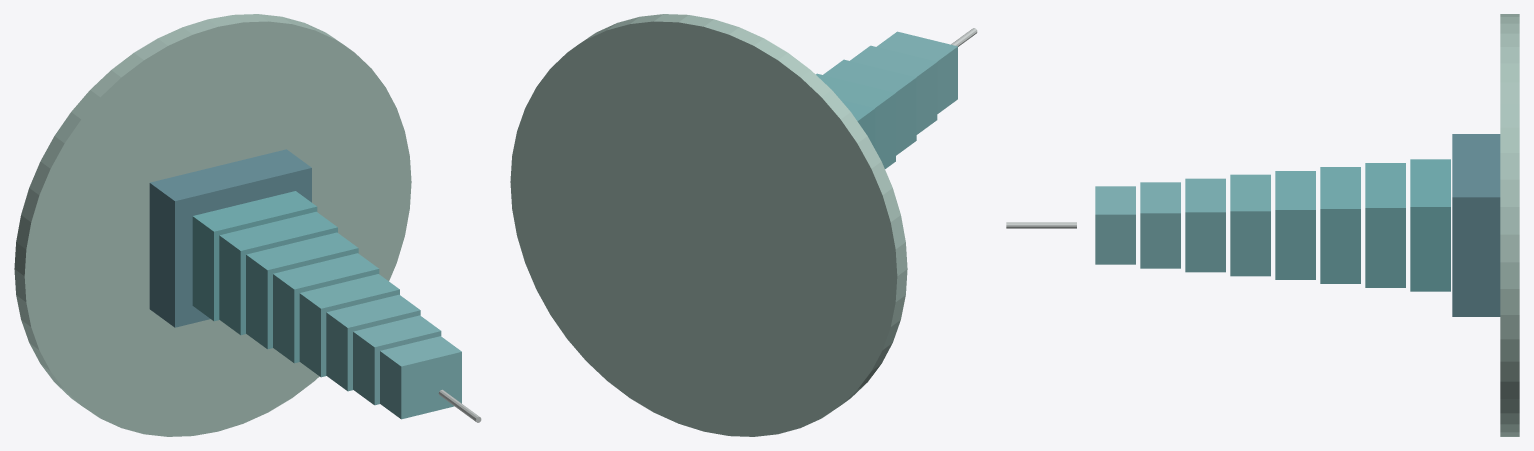
The model's file is taipei_101.glb.
3 renders of one model, left to right at view 1: azimuth 30°, elevation 25°; view 2: azimuth 150°, elevation 25°; view 3: azimuth 270°, elevation 25°, orthographic. The views are drawn at different scales.
Parts seen in each view (by area): view 1: island, base, tower_7, tower_0, tower_1, tower_2, tower_3, tower_4, tower_5, tower_6; view 2: island, tower_5, tower_6, tower_4, tower_7, tower_3; view 3: base, island, tower_0, tower_1, tower_2, tower_3, tower_4, tower_5, tower_6, tower_7, spire.
Boxes of the visible parts, box(x1,y1,x2,y2) form: island: box(14, 14, 411, 436); base: box(149, 149, 311, 327); tower_7: box(380, 336, 461, 419); tower_0: box(192, 191, 317, 321); tower_1: box(219, 211, 337, 335); tower_2: box(246, 232, 358, 349); tower_3: box(273, 253, 379, 363); tower_4: box(299, 274, 399, 377); tower_5: box(326, 294, 420, 391); tower_6: box(353, 315, 441, 405); island: box(510, 14, 907, 436); tower_5: box(823, 59, 916, 155); tower_6: box(850, 45, 937, 134); tower_4: box(816, 73, 895, 168); tower_7: box(876, 31, 957, 113); tower_3: box(841, 100, 875, 149); base: box(1452, 134, 1500, 316); island: box(1500, 14, 1519, 436); tower_0: box(1410, 159, 1450, 291); tower_1: box(1365, 163, 1405, 287); tower_2: box(1320, 167, 1360, 283); tower_3: box(1275, 171, 1315, 279); tower_4: box(1230, 174, 1270, 276); tower_5: box(1185, 178, 1225, 272); tower_6: box(1140, 182, 1180, 268); tower_7: box(1095, 186, 1135, 264); spire: box(1006, 222, 1076, 228).
Bounding box in the file's own units: 4.8 × 4.8 × 5.82.
